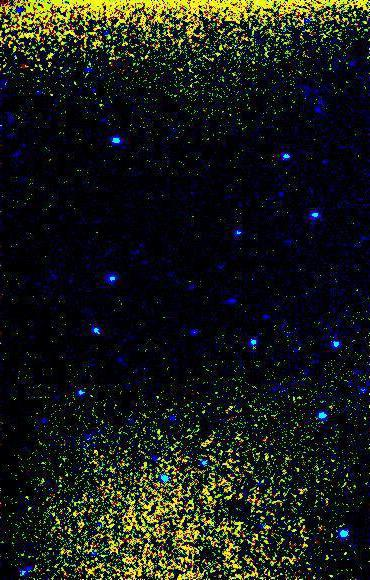star: (83, 439, 113, 469)
